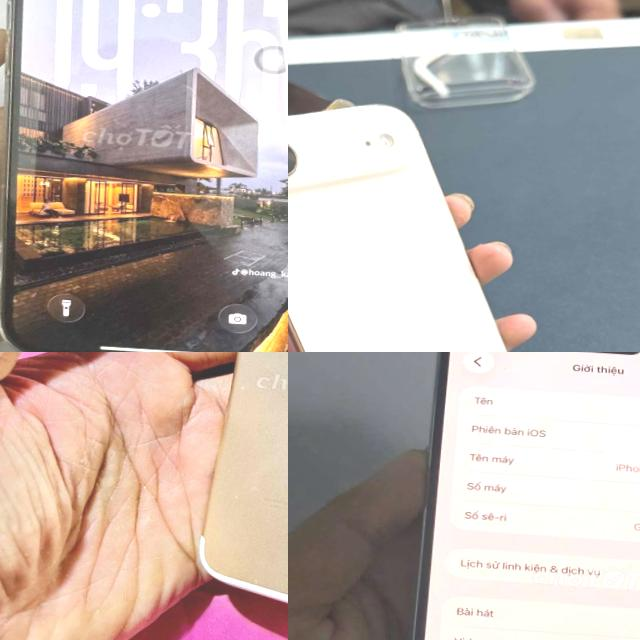gen_14: (0, 0, 288, 352), (385, 352, 640, 640)
gen_17: (288, 83, 569, 352)
gen_7_8: (179, 352, 288, 640)
scratch: (223, 482, 275, 506), (246, 574, 272, 590), (228, 381, 246, 394)
